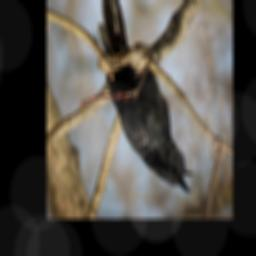Crow: (97, 0, 196, 197)
